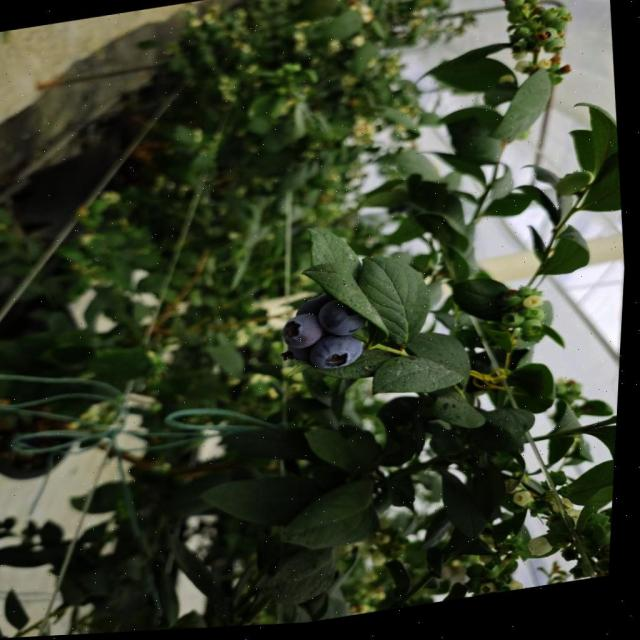RipeBlueBerry: (318, 298, 373, 344), (311, 337, 371, 377), (283, 313, 328, 356)
